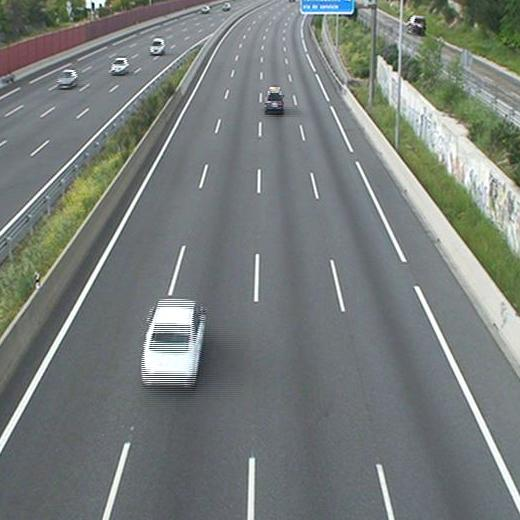car: (141, 297, 207, 390), (265, 86, 284, 114)
